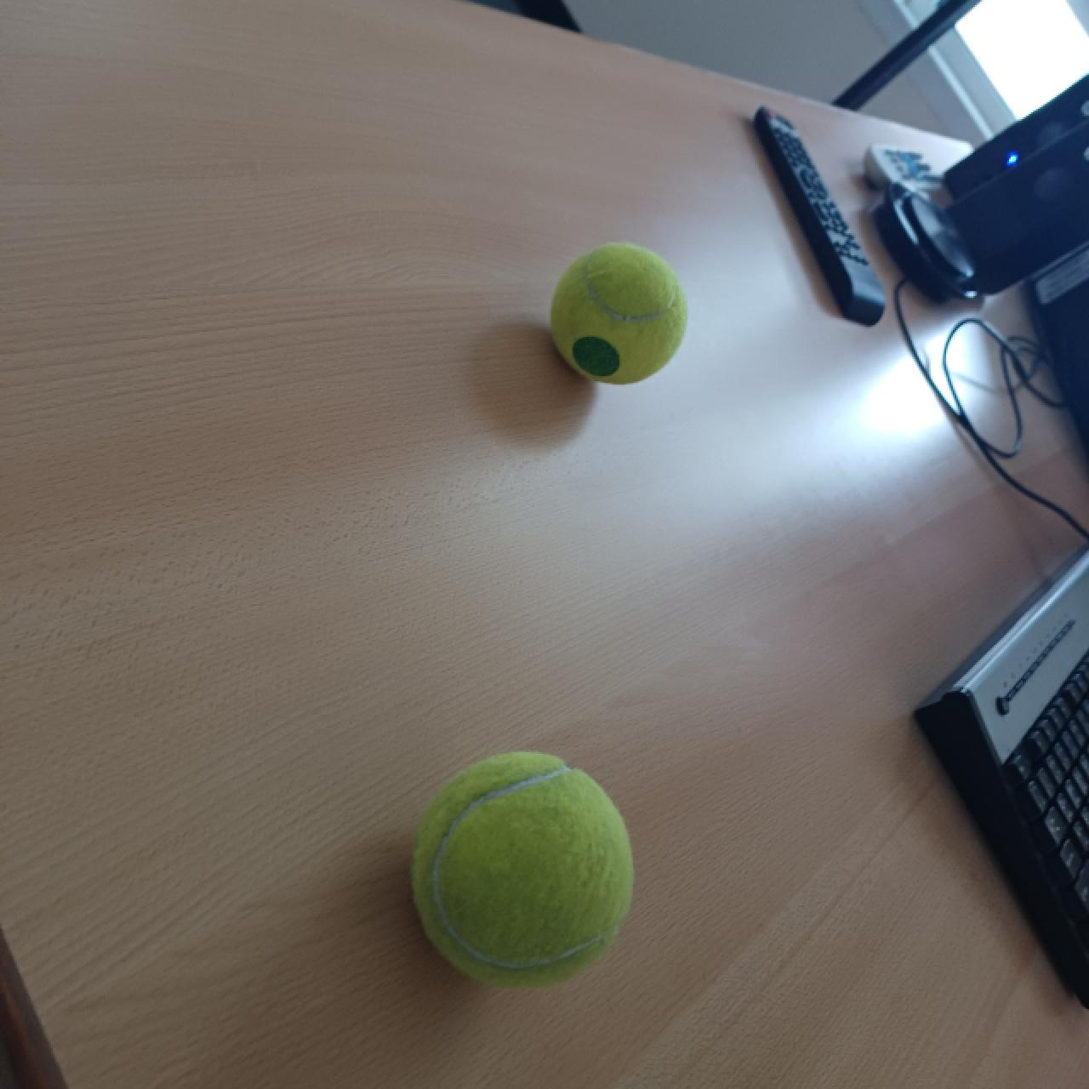tennis-ball: (407, 747, 634, 993), (548, 241, 690, 387)
